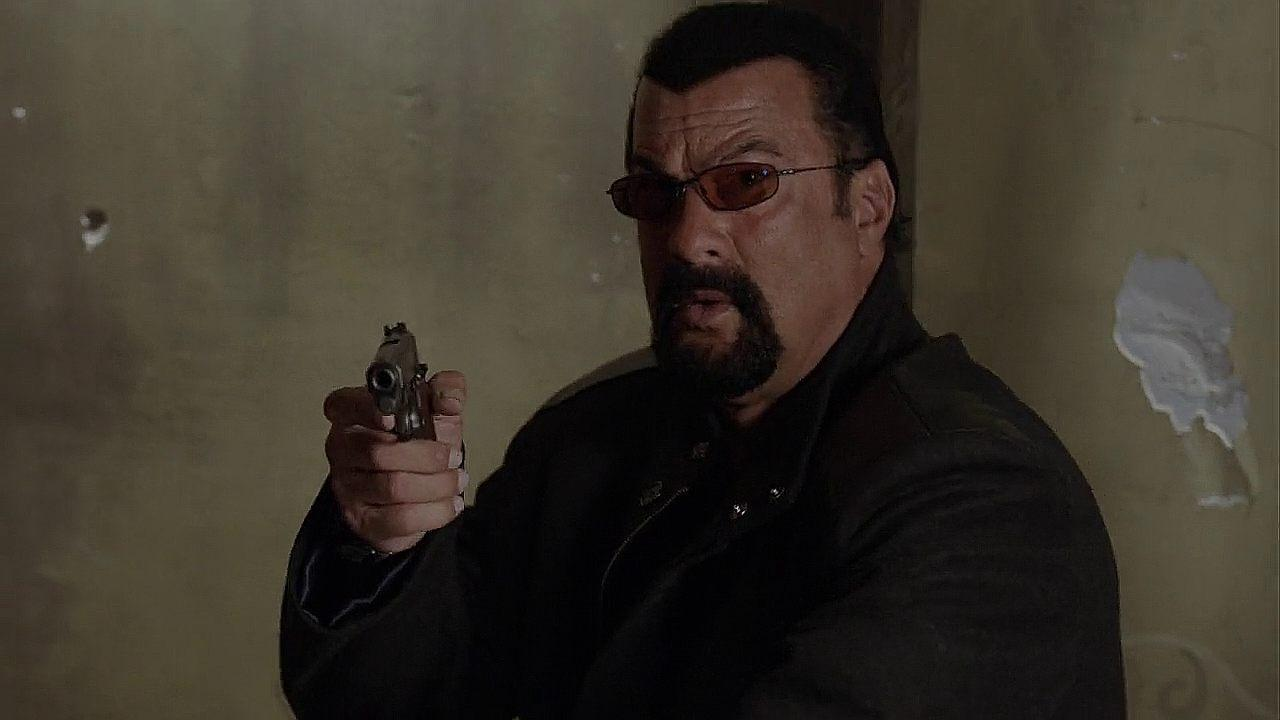gun: (355, 316, 472, 547)
